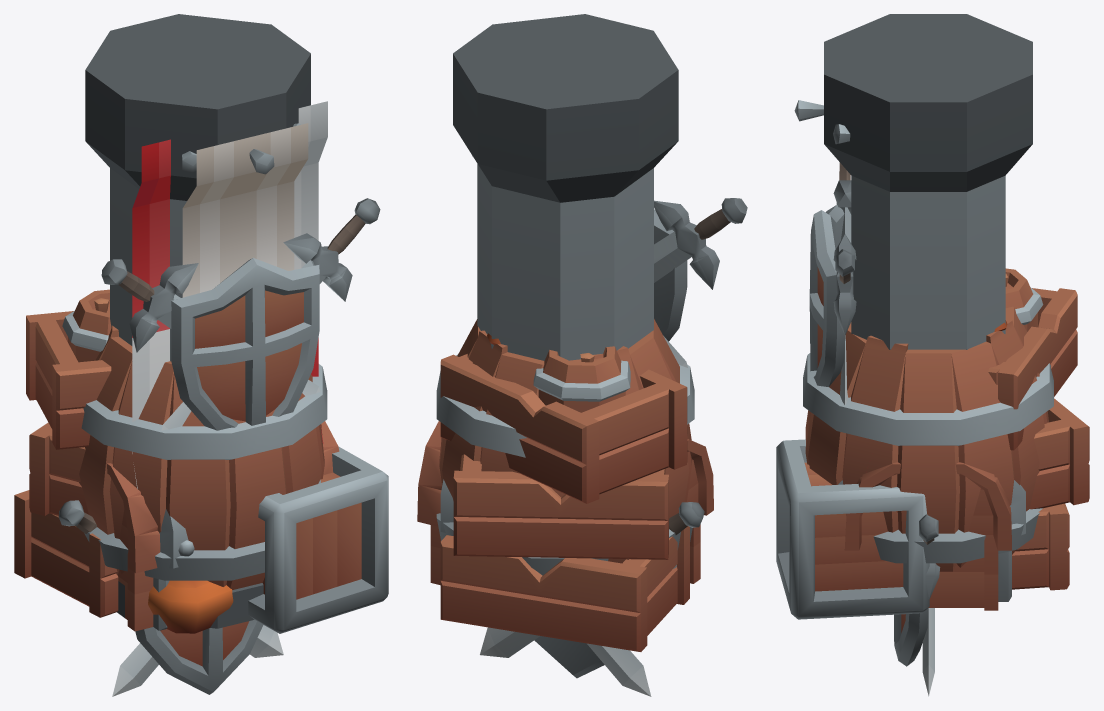
The model's file is dungeon.glb.
The picture shows the model from 3 angles, left to right: view 1: azimuth 30°, elevation 25°; view 2: azimuth 150°, elevation 25°; view 3: azimuth 270°, elevation 25°; orthographic projection. The views are drawn at different scales.
Parts seen in each view (by area): view 1: pillar_decorated, crates_stacked, barrel_large, banner_patternA_red, sword_shield, chest_lid, chest; view 2: pillar_decorated, crates_stacked, barrel_large, sword_shield, chest_lid, chest; view 3: pillar_decorated, barrel_large, crates_stacked, chest_lid, chest, sword_shield.
Part boxes in pixels (x1,y1,x2,y2): pillar_decorated: [85, 14, 380, 628]; crates_stacked: [14, 289, 388, 633]; barrel_large: [79, 325, 327, 589]; banner_patternA_red: [132, 101, 327, 488]; sword_shield: [58, 500, 283, 696]; chest_lid: [106, 421, 339, 573]; chest: [118, 552, 169, 631]; pillar_decorated: [453, 14, 747, 367]; crates_stacked: [440, 333, 689, 651]; barrel_large: [436, 319, 694, 575]; sword_shield: [480, 502, 704, 696]; chest_lid: [417, 421, 713, 563]; chest: [430, 524, 700, 585]; pillar_decorated: [794, 14, 1032, 405]; barrel_large: [803, 306, 1053, 571]; crates_stacked: [776, 268, 1089, 619]; chest_lid: [838, 462, 1025, 550]; chest: [928, 535, 1011, 610]; sword_shield: [894, 514, 940, 696].
Bounding box in the file's own units: 2.23 × 4.82 × 2.25.
1 material, 1 textured.
